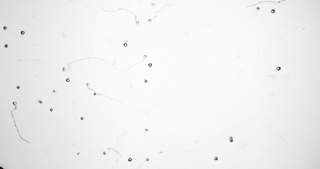germinated: (84, 81, 94, 90), (132, 16, 140, 25), (138, 53, 147, 60), (147, 16, 156, 23), (11, 100, 18, 109), (60, 66, 70, 71)
nongerminated: (228, 135, 236, 142), (146, 61, 153, 69), (275, 64, 282, 71), (212, 154, 219, 161), (1, 23, 7, 31), (270, 7, 276, 14), (122, 41, 128, 48), (127, 156, 133, 163), (101, 149, 107, 156), (65, 76, 71, 83), (51, 87, 57, 94), (47, 106, 53, 113), (19, 29, 26, 35), (3, 42, 9, 49), (75, 150, 81, 156), (79, 115, 85, 121), (37, 98, 43, 104), (15, 84, 21, 90), (255, 5, 260, 12), (143, 78, 148, 84), (144, 127, 149, 133), (145, 156, 150, 162), (92, 91, 96, 97)
